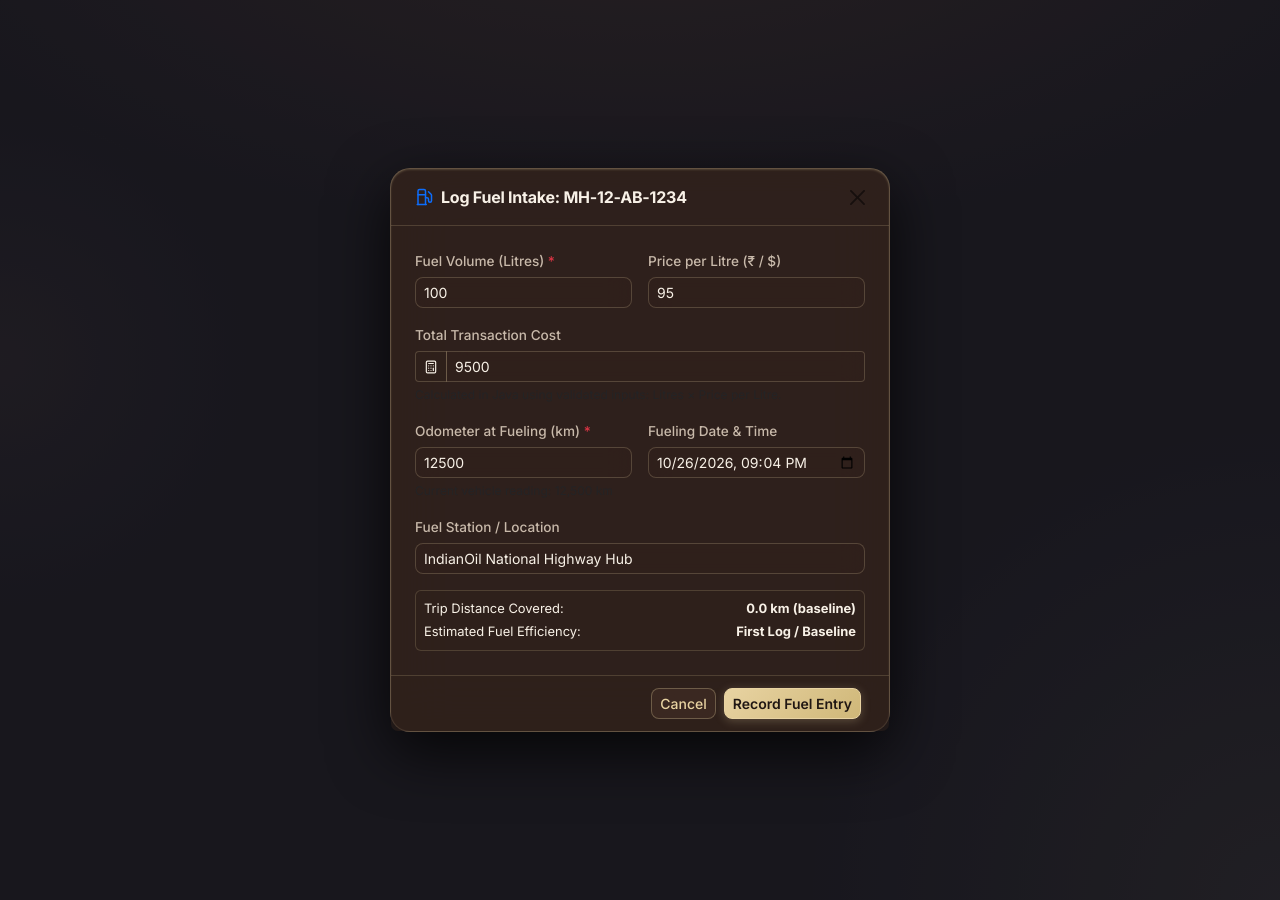
Test case: Fleet & Asset Management Frontend Components › LogFuelModal › auto-calculates total cost from liters and pricePerLiter
This screenshot has width=1280, height=900.
Replace the text in the number field labelled "Fuel Volume (Litres) *" with "50" at (524, 293), box [415,277,632,308]
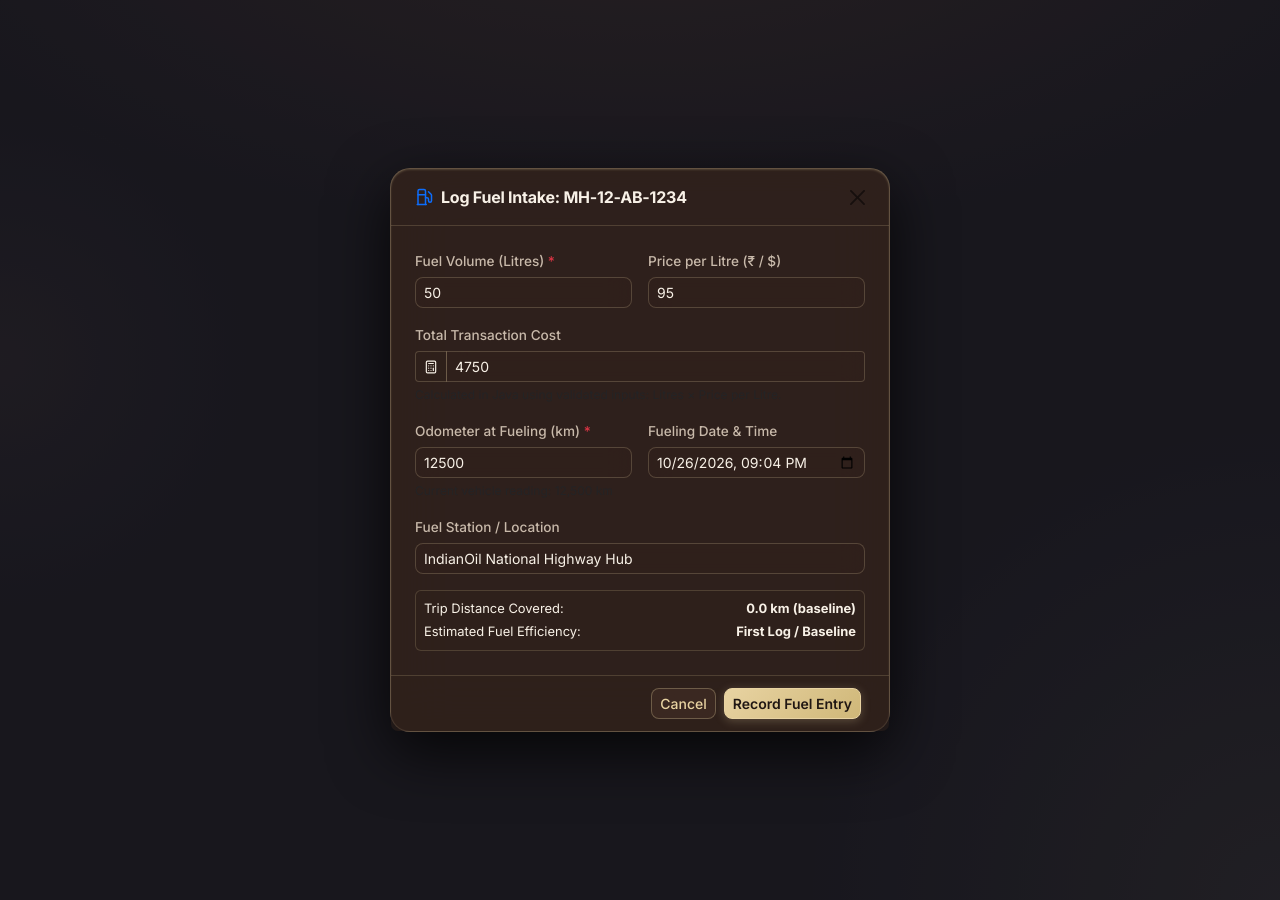
Replace the text in the number field labelled "Price per Litre (₹ / $)" with "100" at (756, 293), box [648,277,865,308]
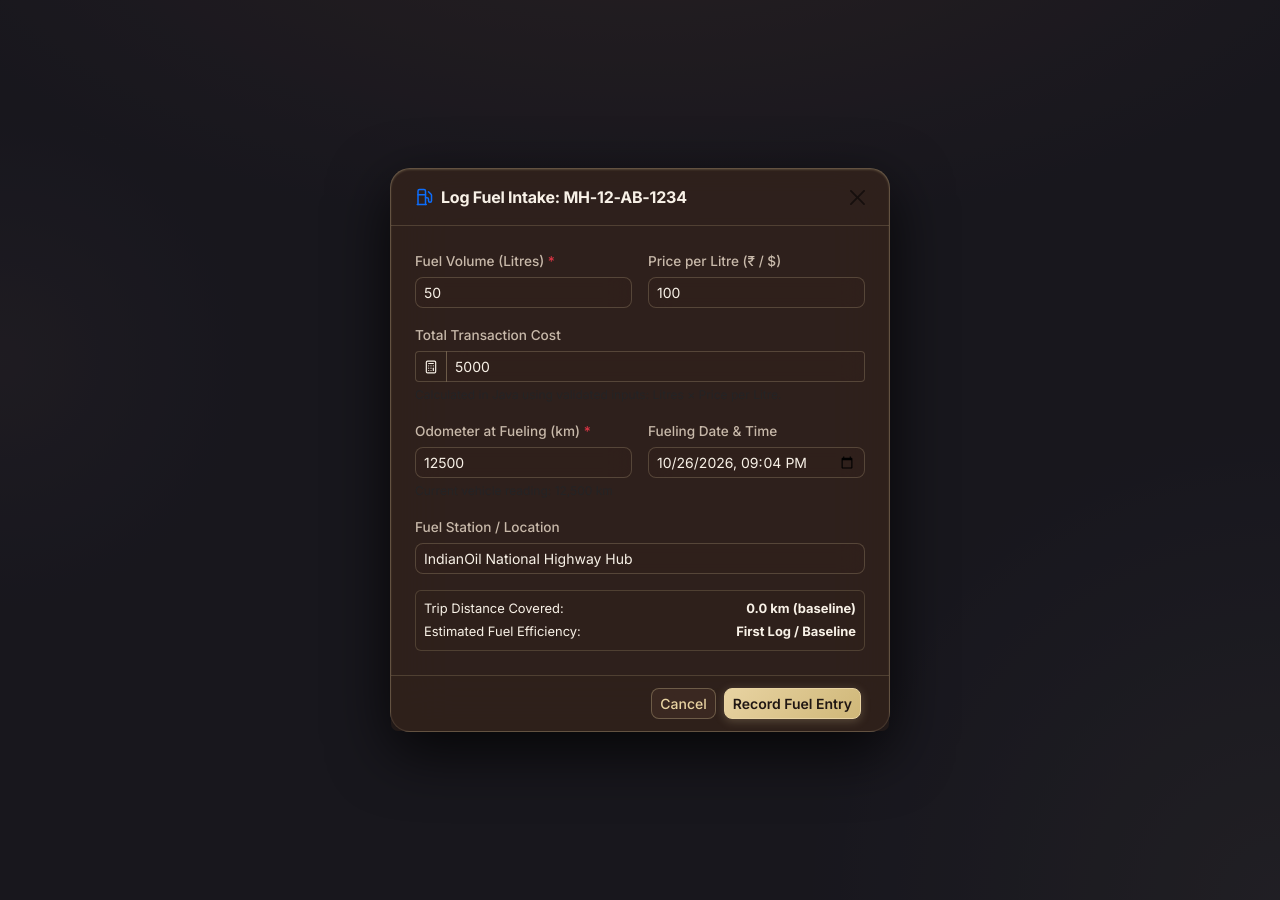
Expected: the number field labelled "Total Transaction Cost" holds "5000", [446,351,865,382]
